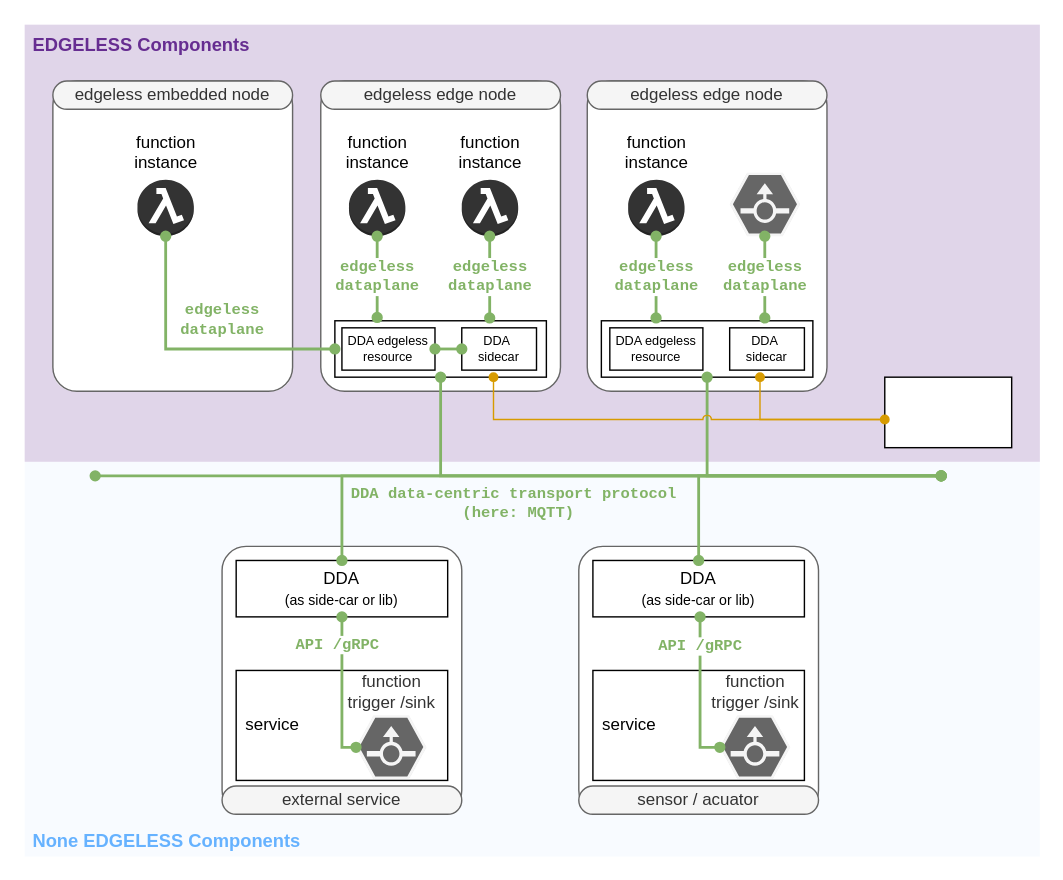
The diagram is 1063 pixels wide and 880 high, and some of its shapes have lost their labels. The centre of each missing label's shape, as x and y in pixels:
"function trigger / sink" belongs at point (764, 203).
"MON" belongs at point (947, 412).
